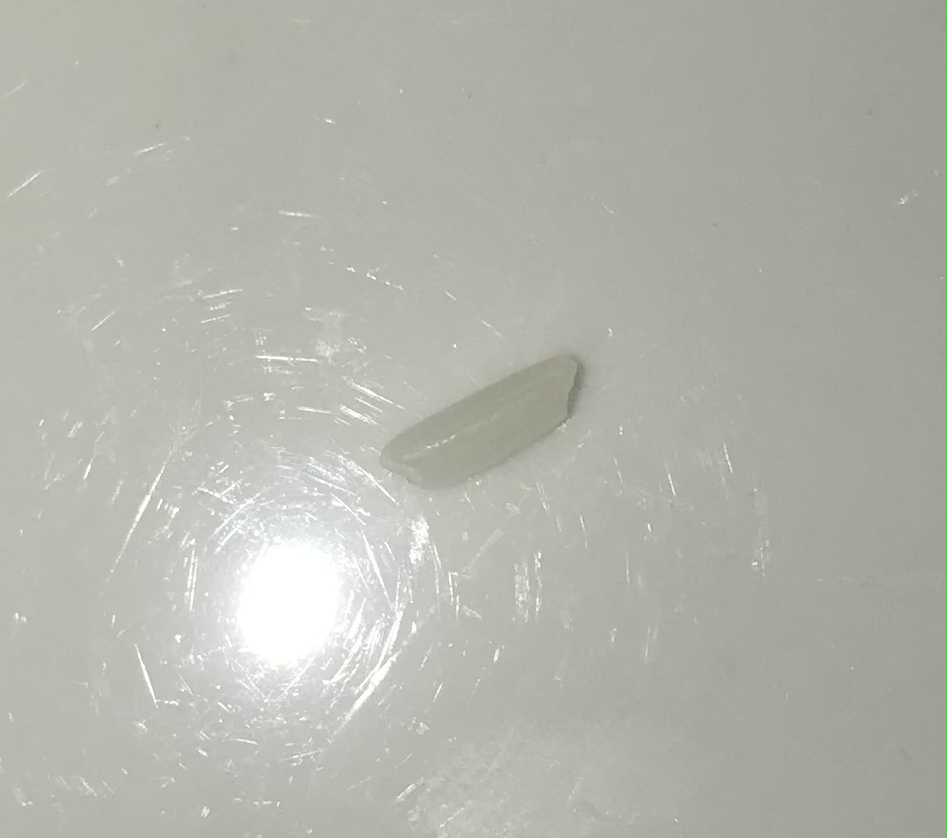Gao Thom Go Cong: (375, 364, 610, 496)
